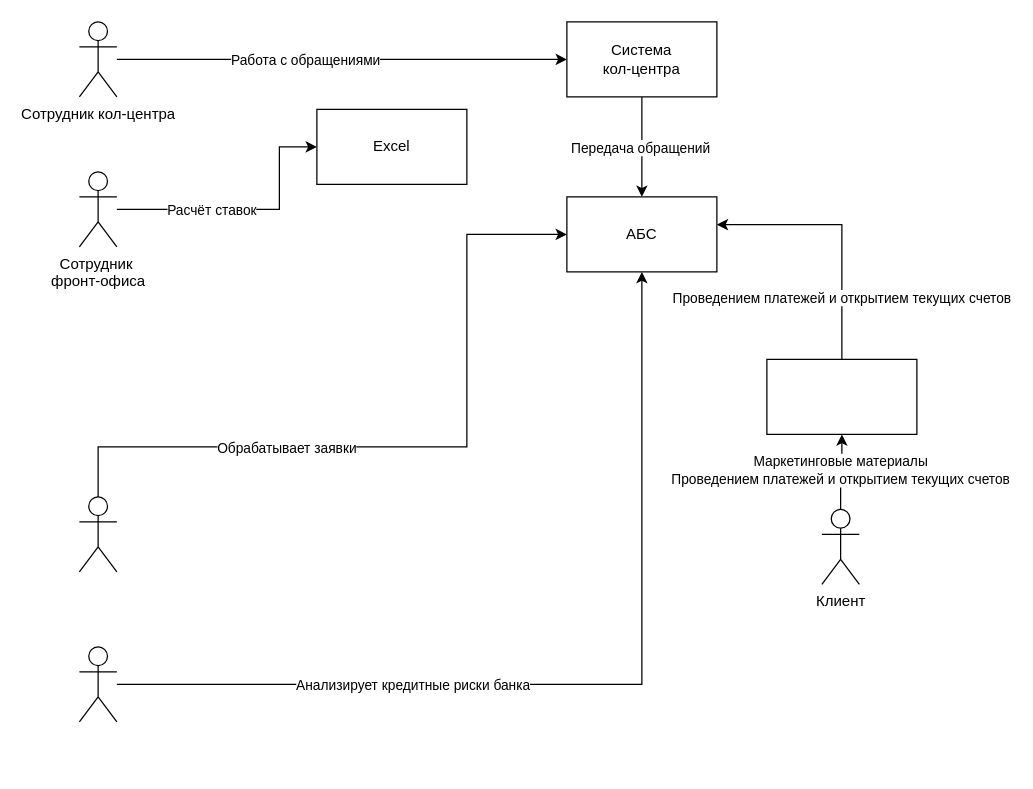
The diagram is 1033 pixels wide and 789 high, and some of its shapes have lost their labels. The centre of each missing label's shape, as x and y in pixels:
"Сайт" belongs at (x=841, y=396).
"Сотрудник бэк-офиса (отдел депозитов)" belongs at (x=97, y=534).
"Сотрудник бэк-офиса (отдел кредитования)" belongs at (x=97, y=684).
